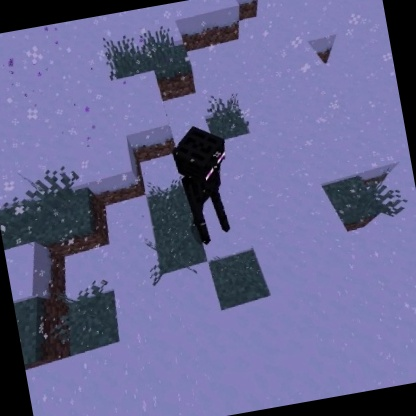enderman: (166, 118, 246, 251)
